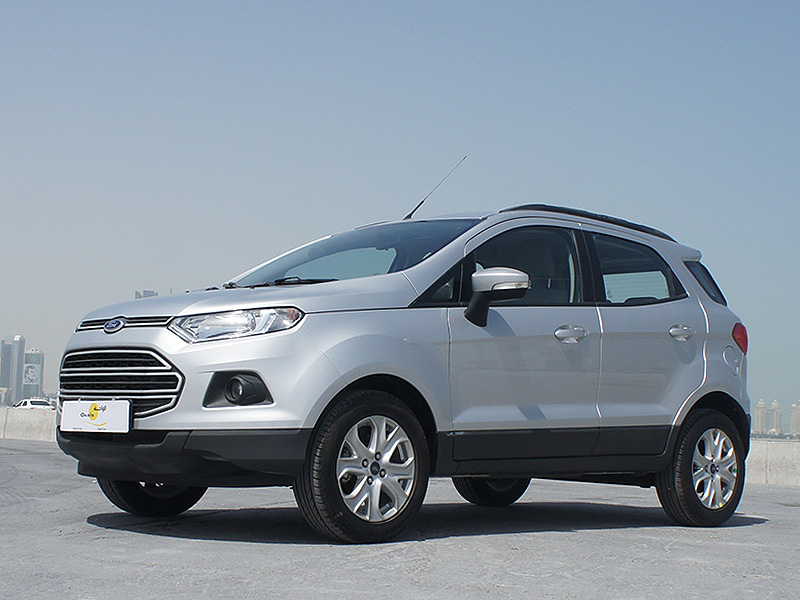other: (54, 194, 751, 532)
